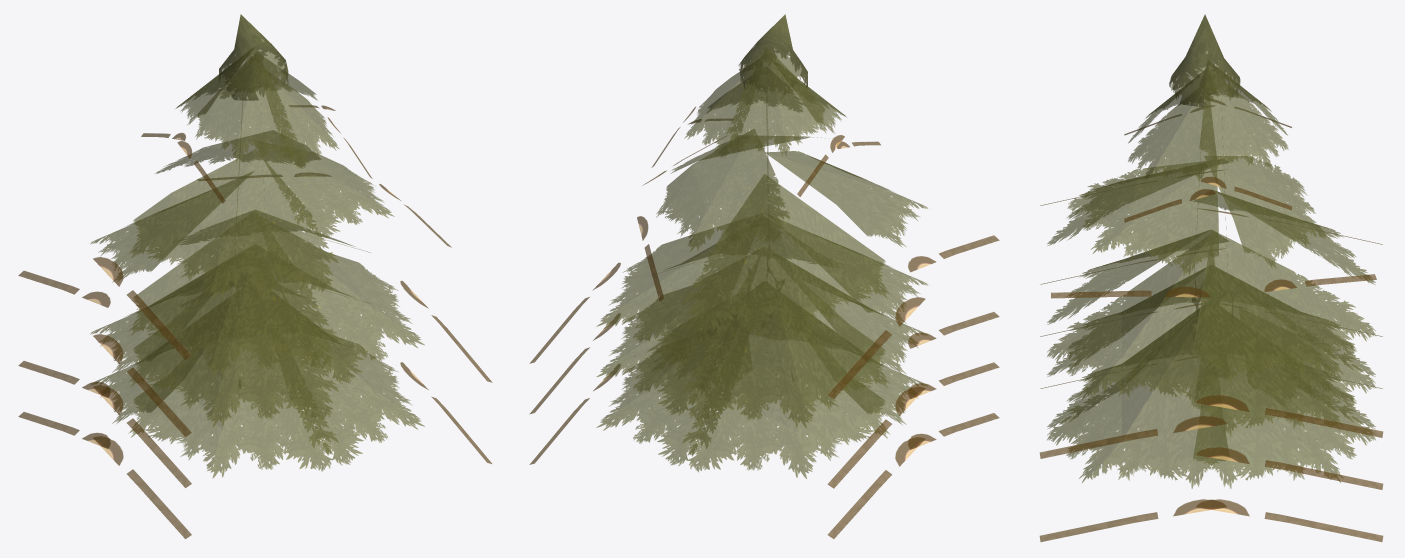
File: pine_tree_02.fbx
3 views of the same model, side by side, from view 1: azimuth 30°, elevation 25°; view 2: azimuth 150°, elevation 25°; view 3: azimuth 270°, elevation 25° (orthographic). The views are drawn at different scales.
Visible parts, largest first — view 1: PineTree_1.002, PineTree_1; view 2: PineTree_1.002, PineTree_1; view 3: PineTree_1.002, PineTree_1.
Part boxes in pixels (box(x1,y1,x2,y2)): PineTree_1.002: box(18, 46, 492, 538); PineTree_1: box(218, 14, 288, 100); PineTree_1.002: box(529, 47, 999, 538); PineTree_1: box(649, 14, 807, 390); PineTree_1.002: box(1039, 60, 1383, 541); PineTree_1: box(1169, 14, 1333, 420).
Size of the model in its own units: 1496 by 2005 by 1467.
